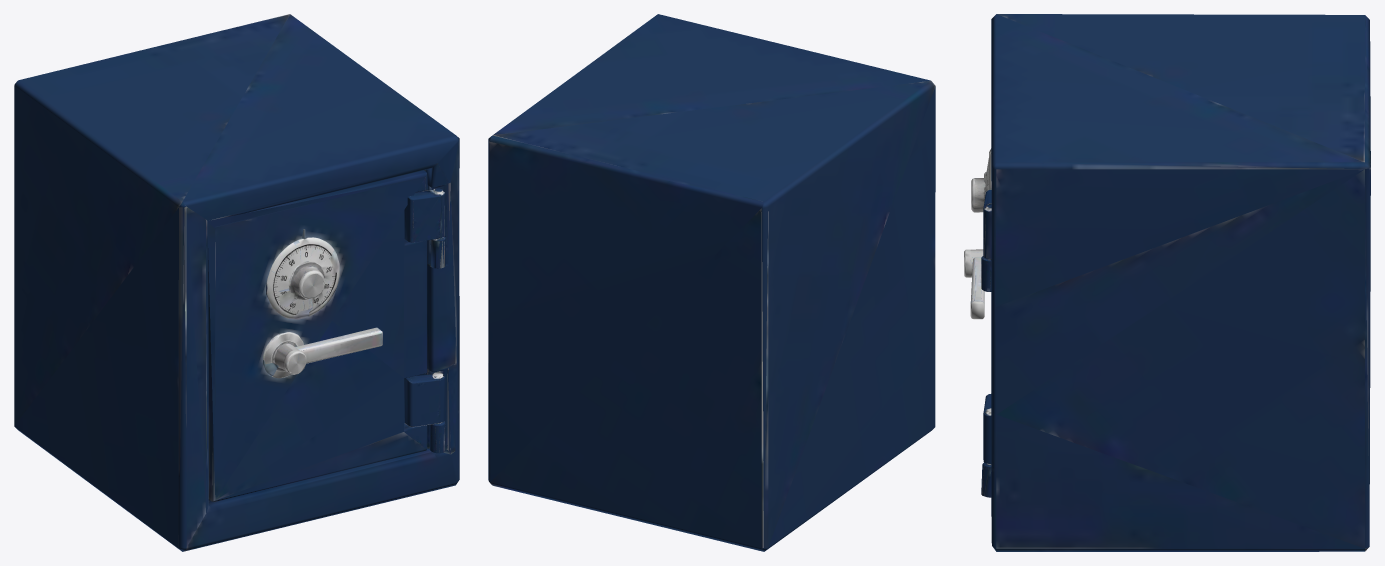
File: safe_tier_3_dial_lock.glb
3 views of the same model, side by side, from view 1: azimuth 30°, elevation 25°; view 2: azimuth 150°, elevation 25°; view 3: azimuth 270°, elevation 25° (orthographic). The views are drawn at different scales.
Visible parts, largest first — view 1: Meshy_AI_safe_tier_3_dial_lock_3d_20261027_texture; view 2: Meshy_AI_safe_tier_3_dial_lock_3d_20261027_texture; view 3: Meshy_AI_safe_tier_3_dial_lock_3d_20261027_texture.
Part boxes in pixels (x1,y1,x2,y2): Meshy_AI_safe_tier_3_dial_lock_3d_20261027_texture: (14, 14, 459, 551); Meshy_AI_safe_tier_3_dial_lock_3d_20261027_texture: (488, 14, 935, 551); Meshy_AI_safe_tier_3_dial_lock_3d_20261027_texture: (964, 14, 1370, 551).
Bounding box in the file's own units: 1.18 × 1.4 × 1.32.
Materials: 1 (1 with a texture image).
